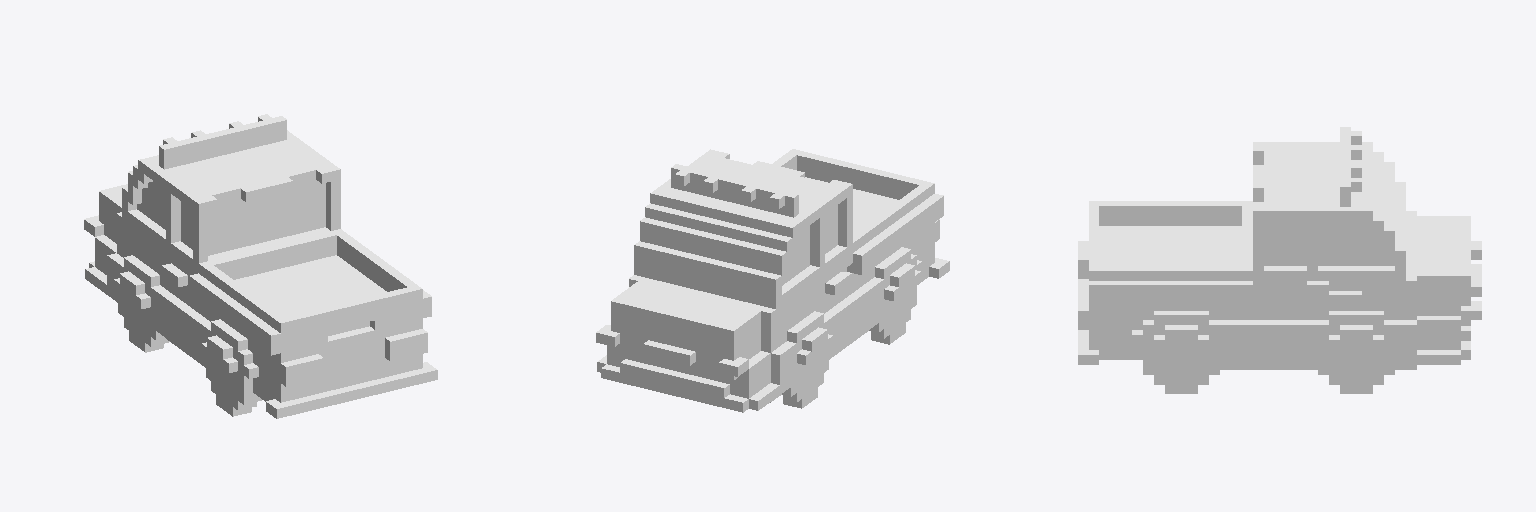
Rendered from firstCar.obj.
The picture shows the model from 3 angles: view 1: azimuth 30°, elevation 25°; view 2: azimuth 150°, elevation 25°; view 3: azimuth 270°, elevation 25°; orthographic projection.
Parts seen in each view (by area): view 1: firstCar; view 2: firstCar; view 3: firstCar.
Part boxes in pixels (left/top/right/bottom): firstCar: left=84, top=114, right=437, bottom=418; firstCar: left=596, top=149, right=949, bottom=412; firstCar: left=1078, top=127, right=1481, bottom=393.
Bounding box in the file's own units: 19 × 20 × 37.